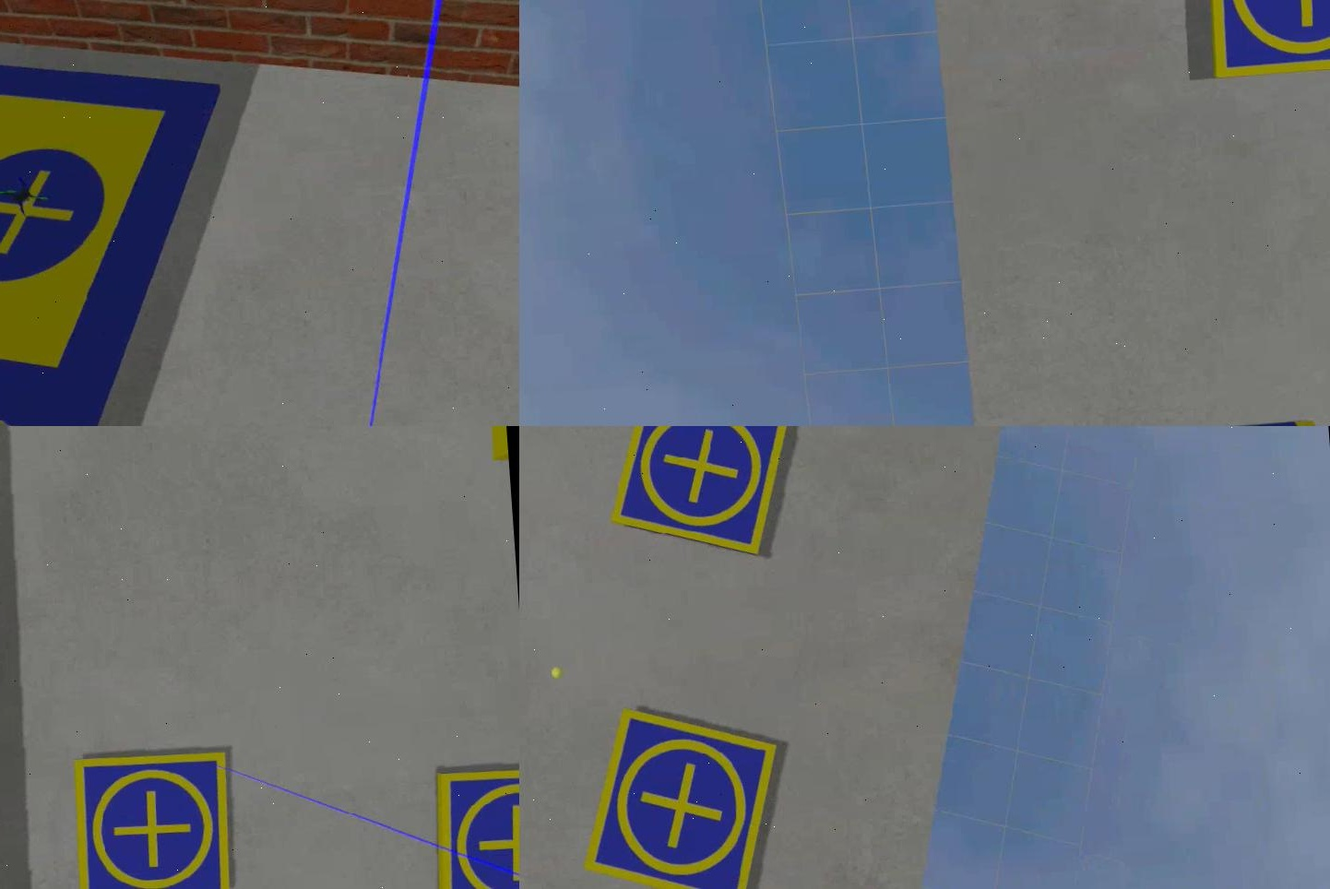large_base: (0, 44, 244, 426)
small_base: (573, 701, 791, 889), (596, 426, 799, 564), (65, 750, 242, 889), (1195, 1, 1328, 82), (431, 768, 517, 889)
